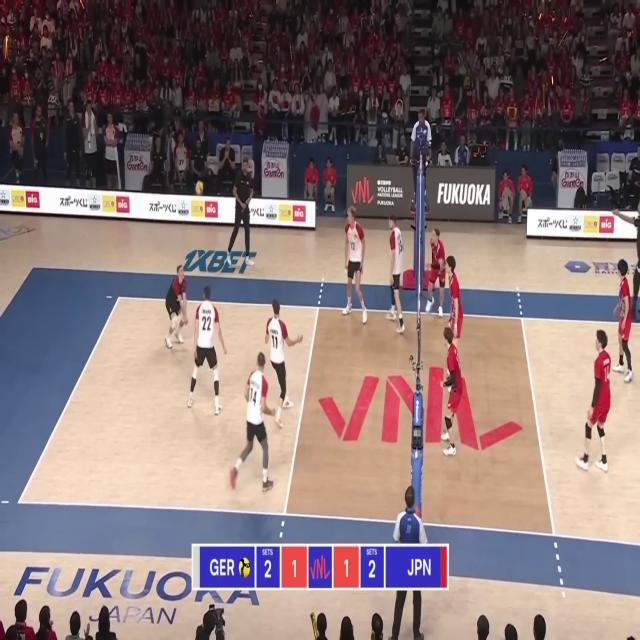referee: (392, 485, 428, 640)
team_one: (230, 348, 274, 494), (185, 286, 227, 418), (264, 300, 302, 426), (343, 208, 368, 322), (388, 218, 406, 337), (164, 264, 188, 350)
team_two: (575, 328, 612, 473), (612, 258, 635, 381), (441, 325, 461, 460), (446, 254, 464, 366), (427, 227, 446, 316)
